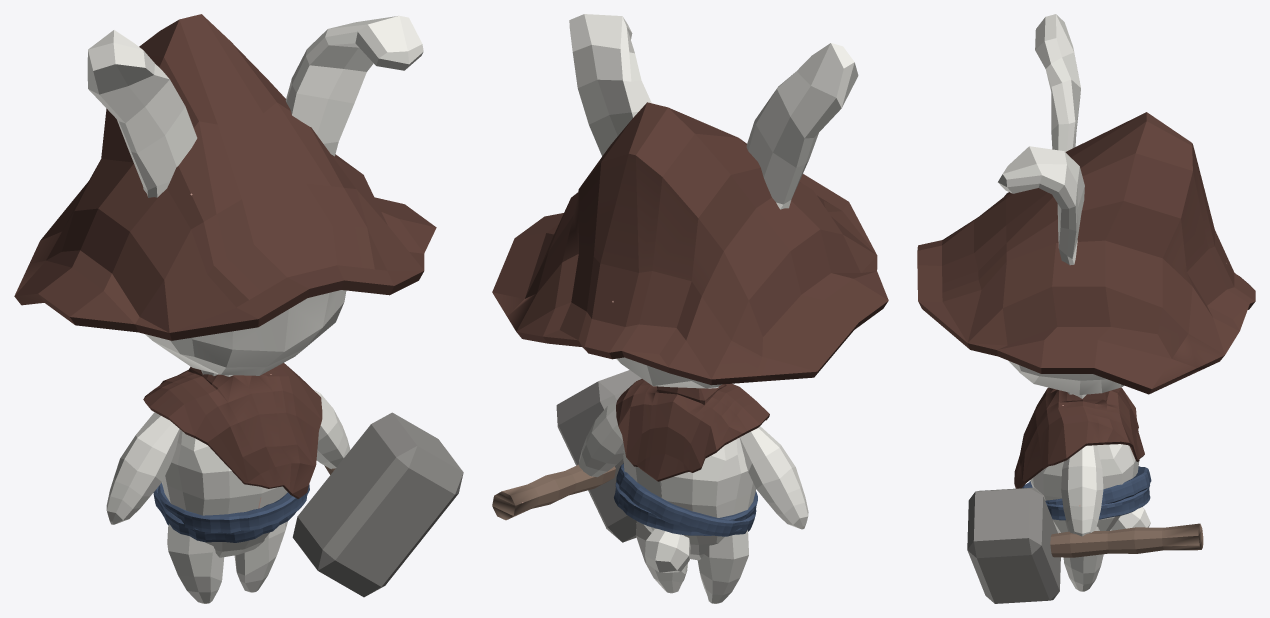
File: 3D_Model_Hase_v2.fbx
The picture shows the model from 3 angles, left to right: view 1: azimuth 30°, elevation 25°; view 2: azimuth 150°, elevation 25°; view 3: azimuth 270°, elevation 25°; orthographic projection. The views are drawn at different scales.
Parts seen in each view (by area): view 1: Body; view 2: Body; view 3: Body.
Boxes of the visible parts, bbox=[...] form: Body: bbox=[14, 14, 463, 603]; Body: bbox=[492, 14, 888, 603]; Body: bbox=[917, 14, 1255, 603].
Bounding box in the file's own units: 604 × 960 × 574.
